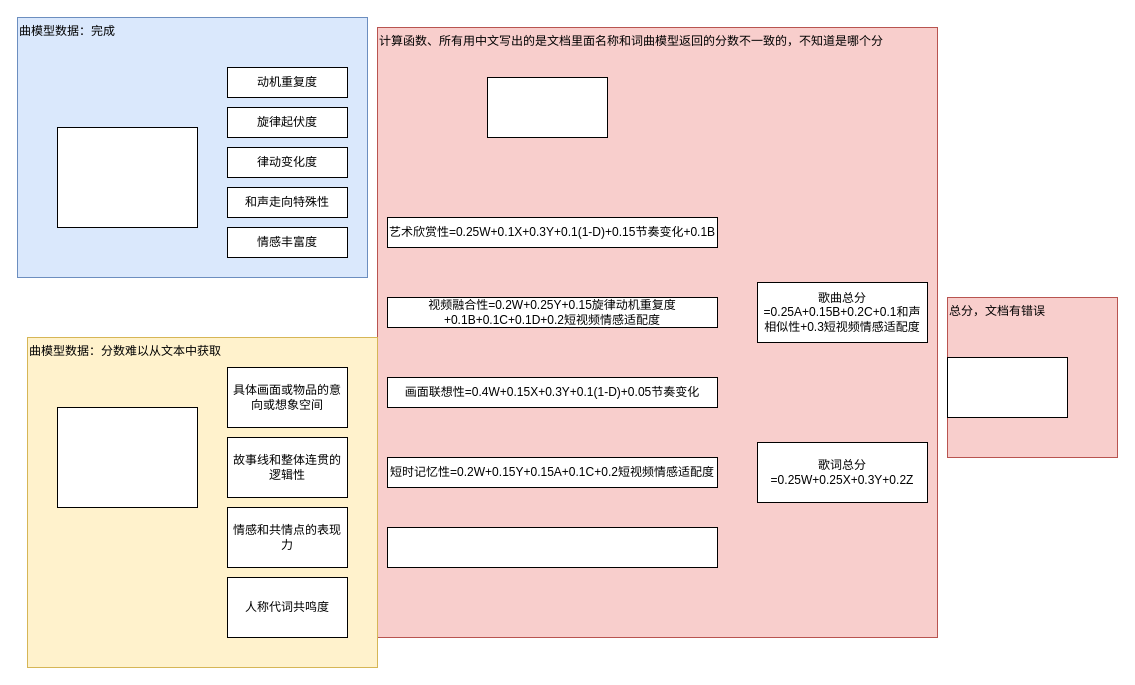
The diagram is 1135 pixels wide and 685 high, and some of its shapes have lost their labels. Each missing label, with the centre of its shape:
情绪共鸣性=0.35Y+0.15Z+0.1A+0.2B+0.2短视频情感适配度: point (552, 547)
曲模型返回5个分值 在返回的json中就是按照右侧从上至下的顺序排列的 从上至下用ABCDE代替: point (127, 177)
词曲总分=0.4歌词总分+0.6歌曲总分: point (1007, 387)
词模型返回4个分值， 具体返回顺序我这边不清楚 从上至下用WXYZ代替: point (127, 457)
过程分数5项: point (547, 107)
